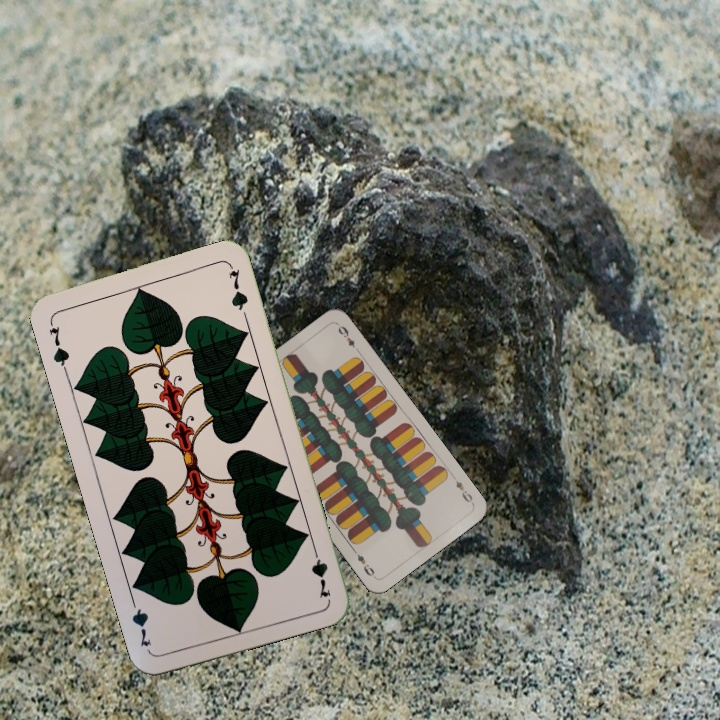E9: (448, 471, 476, 507)
G7: (307, 541, 334, 600), (45, 316, 72, 375)
